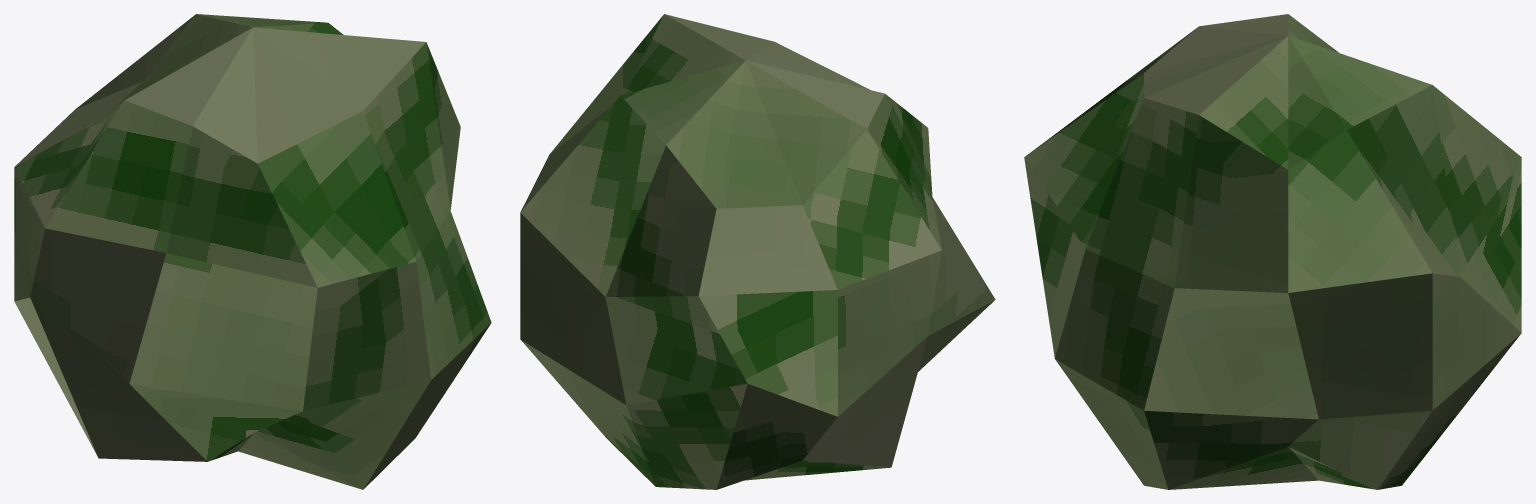
File: gorillaRock.gltf
The picture shows the model from 3 angles, left to right: view 1: azimuth 30°, elevation 25°; view 2: azimuth 150°, elevation 25°; view 3: azimuth 270°, elevation 25°; orthographic projection. The views are drawn at different scales.
Parts seen in each view (by area): view 1: sphere; view 2: sphere; view 3: sphere.
Boxes of the visible parts, left/top/right/bottom form: sphere: left=14, top=14, right=491, bottom=489; sphere: left=520, top=14, right=995, bottom=489; sphere: left=1024, top=14, right=1521, bottom=489.
Bounding box in the file's own units: 1 × 1 × 1.01.
1 material, 1 textured.
